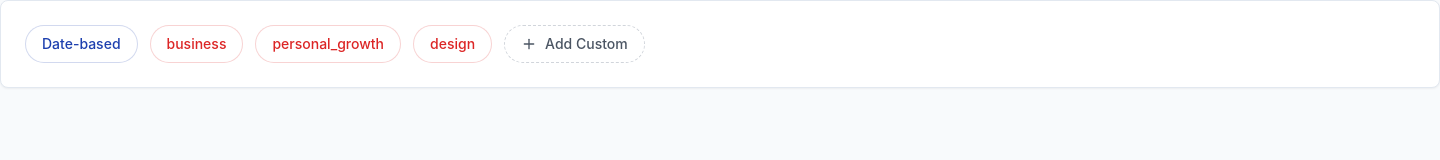
Test: CategoryBuilder Component › Custom Category Creation › should show custom input when Add Custom is clicked
This screenshot has width=1440, height=160.
Click the button "Add Custom" at (574, 44), box [504,25,645,63]
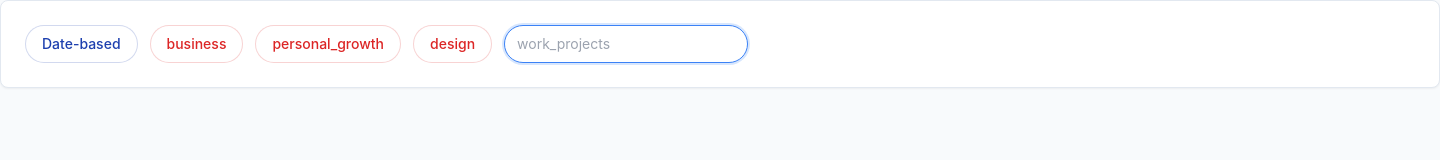
Check: the field with placeholder "work_projects" is shown, box [504,25,748,63]
